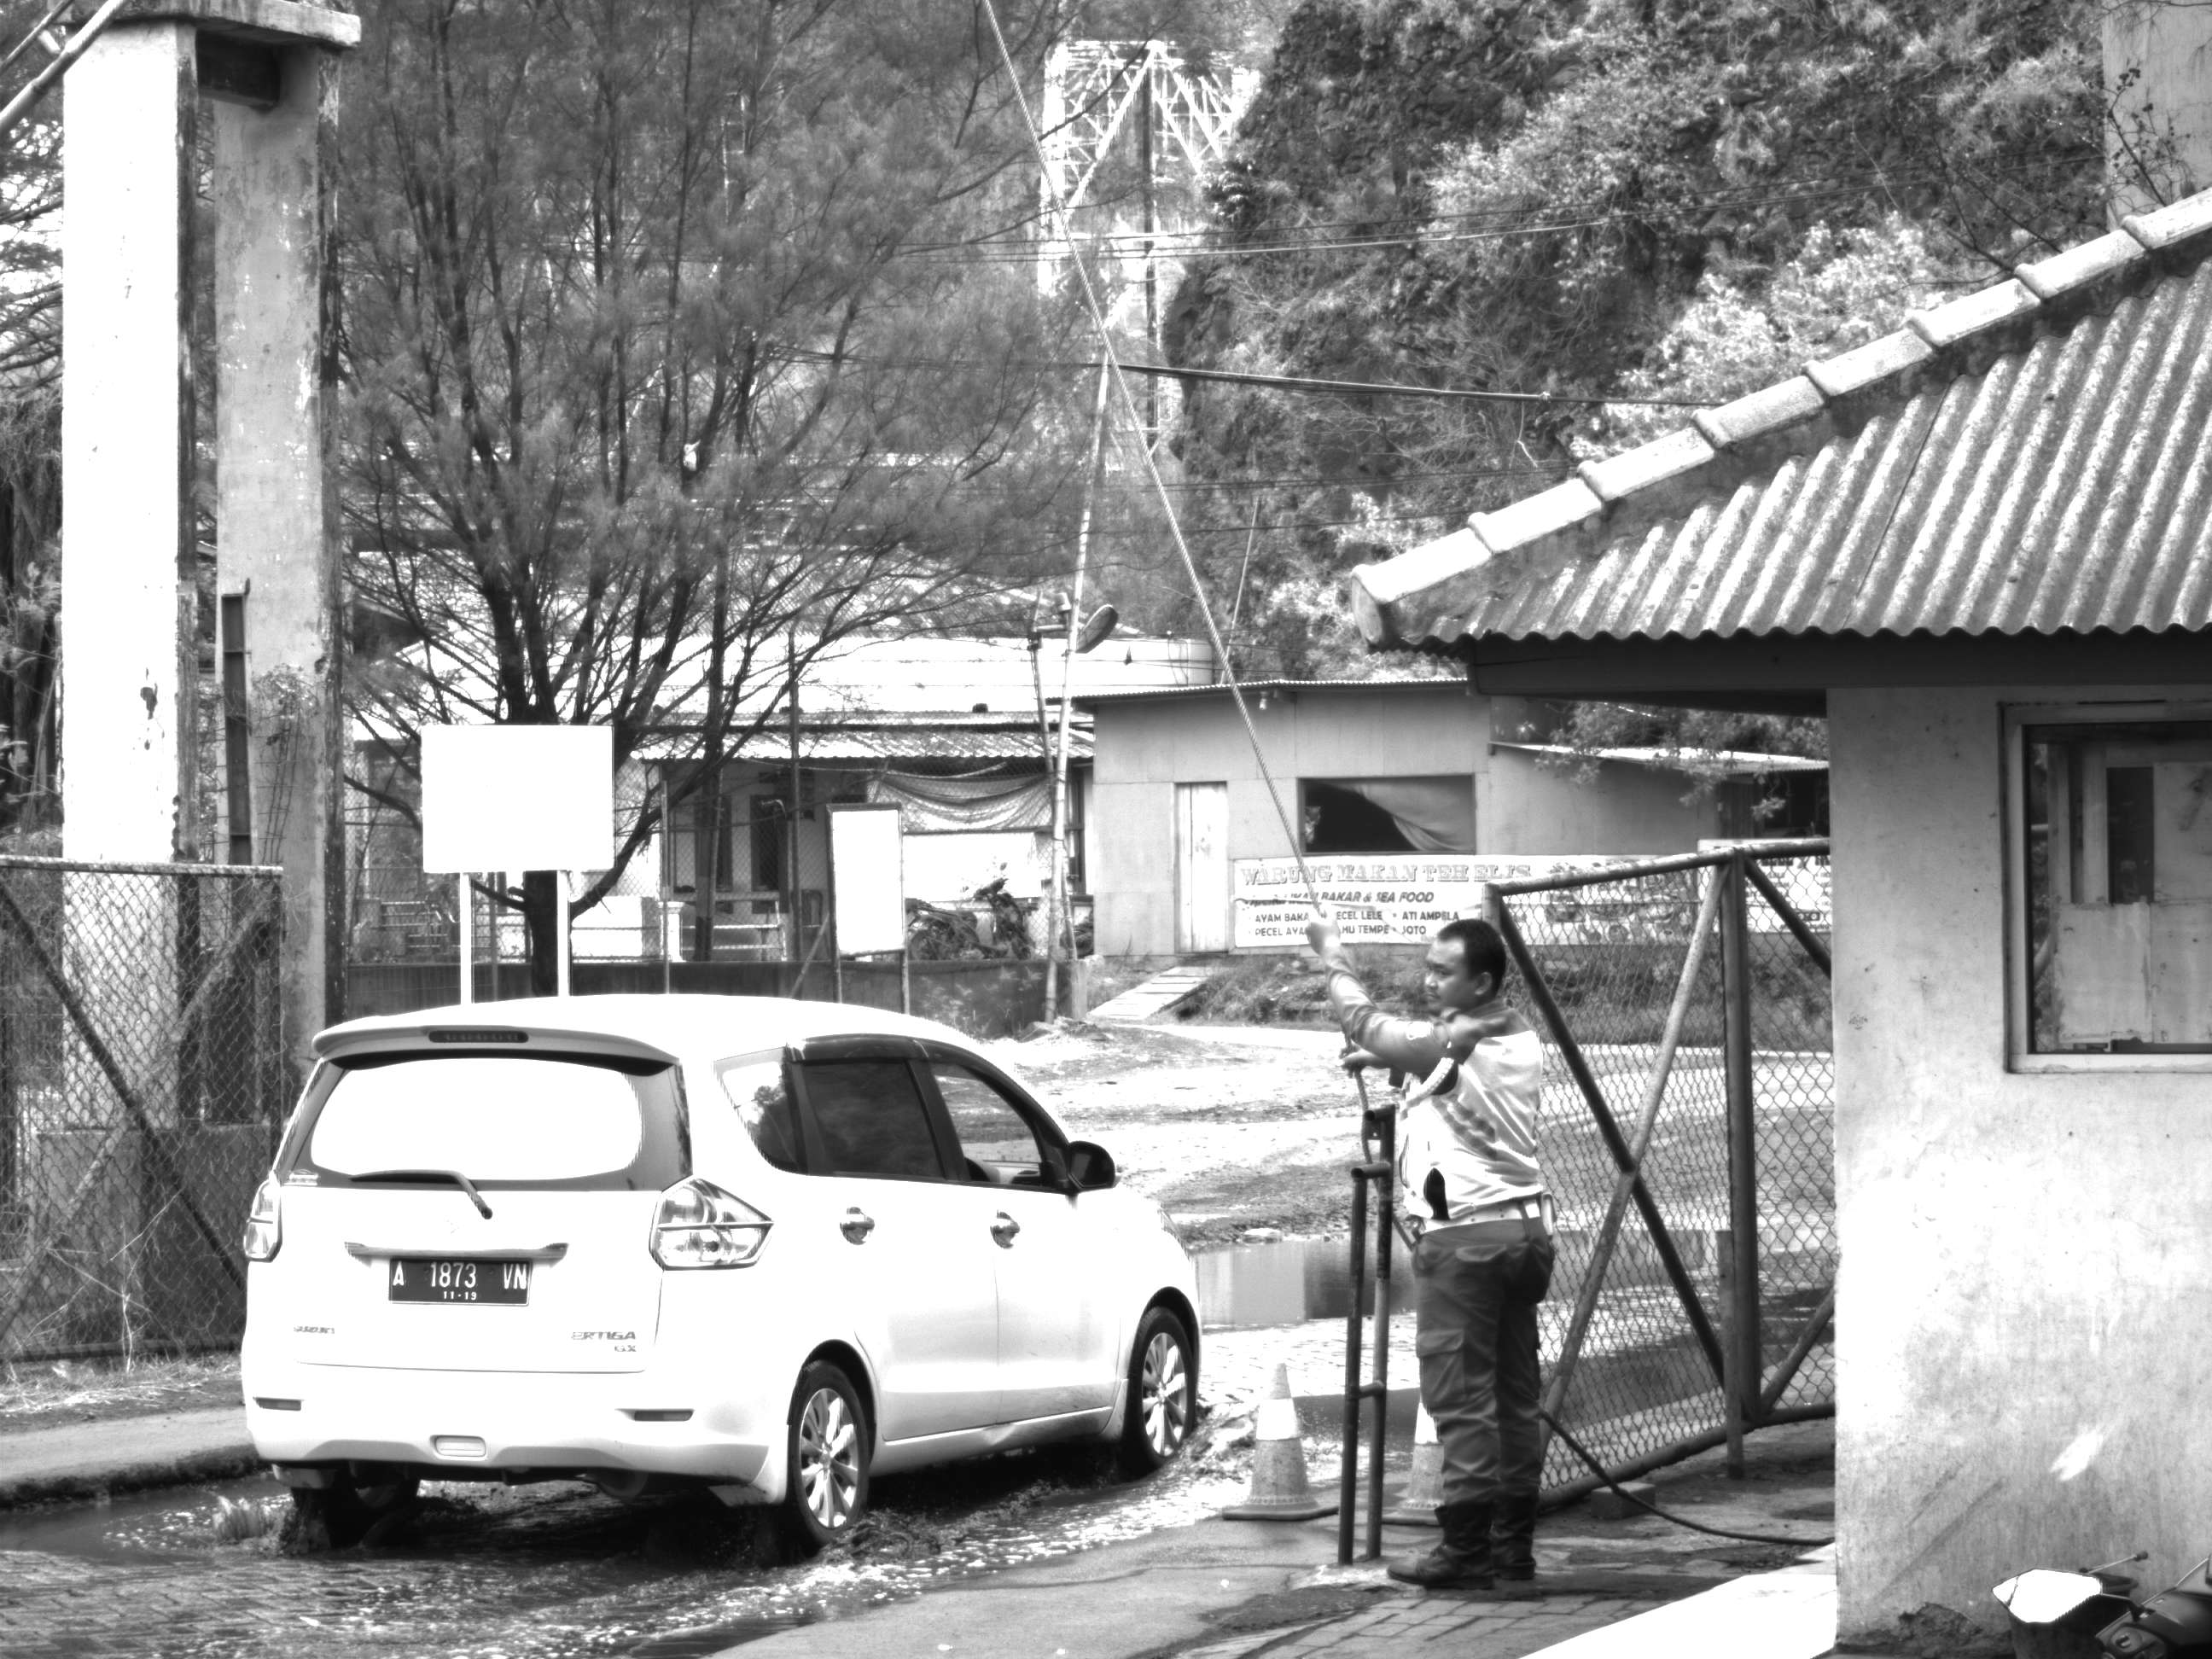day_small_rear: (233, 994, 893, 1561)
plate: (387, 1247, 535, 1311)
